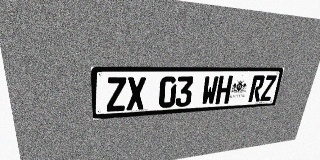0: (158, 76, 177, 108)
3: (175, 76, 194, 107)
H: (215, 76, 233, 104)
R: (248, 75, 265, 102)
W: (201, 76, 219, 105)
X: (127, 77, 146, 111)
Z: (106, 77, 126, 112), (260, 75, 277, 101)
